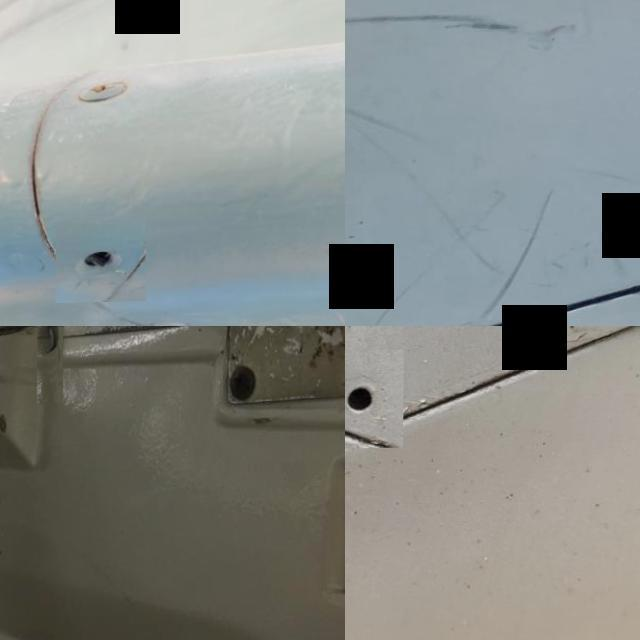Crack: (37, 326, 63, 405)
Missing_Fastener: (56, 220, 146, 304), (345, 351, 404, 450)
